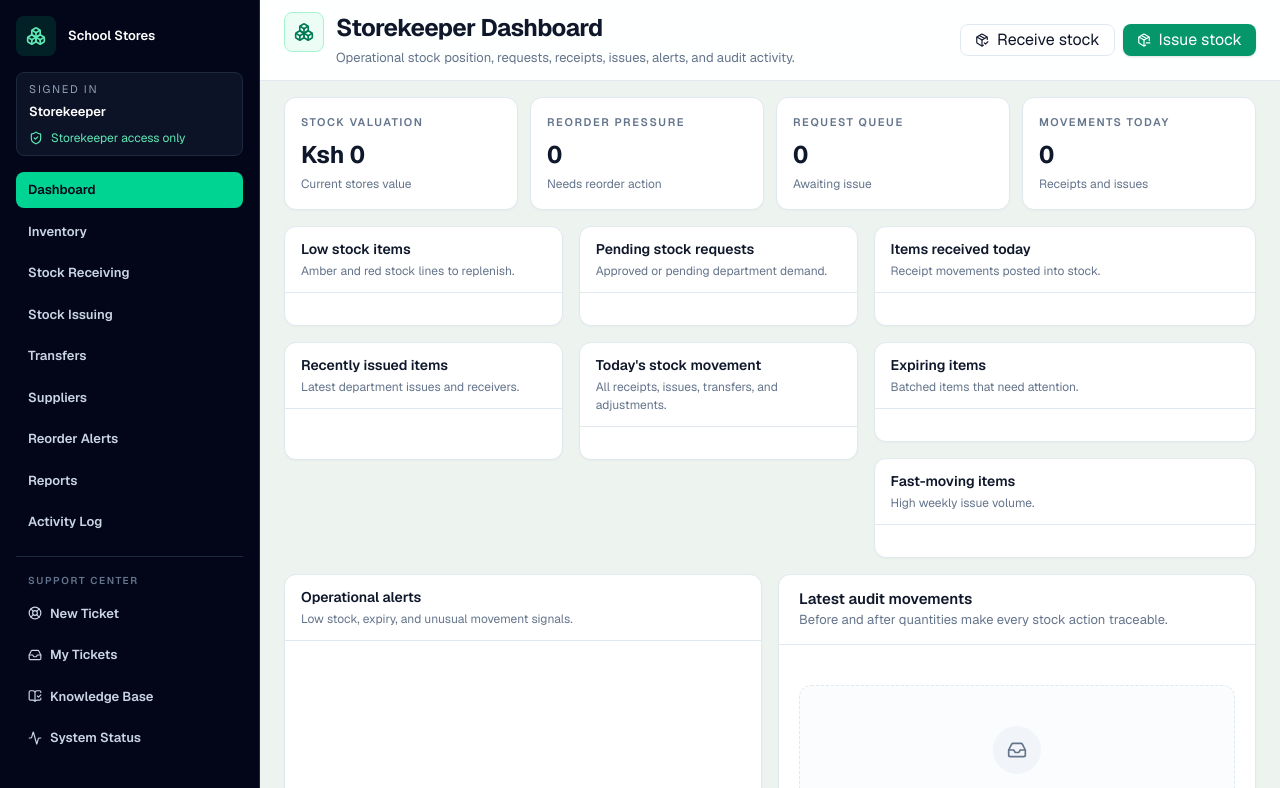
Test: storekeeper inventory workspace › renders a dense warehouse dashboard without unrelated modules
The width and height of the screenshot is (1280, 788).
Expected: the heading "Storekeeper Dashboard" is shown, [336,12,603,43]
Expected: the heading "Low stock items" is shown, [301,240,411,258]
Click the button "Issue stock".
click(1189, 40)  # box [1123,24,1256,56]
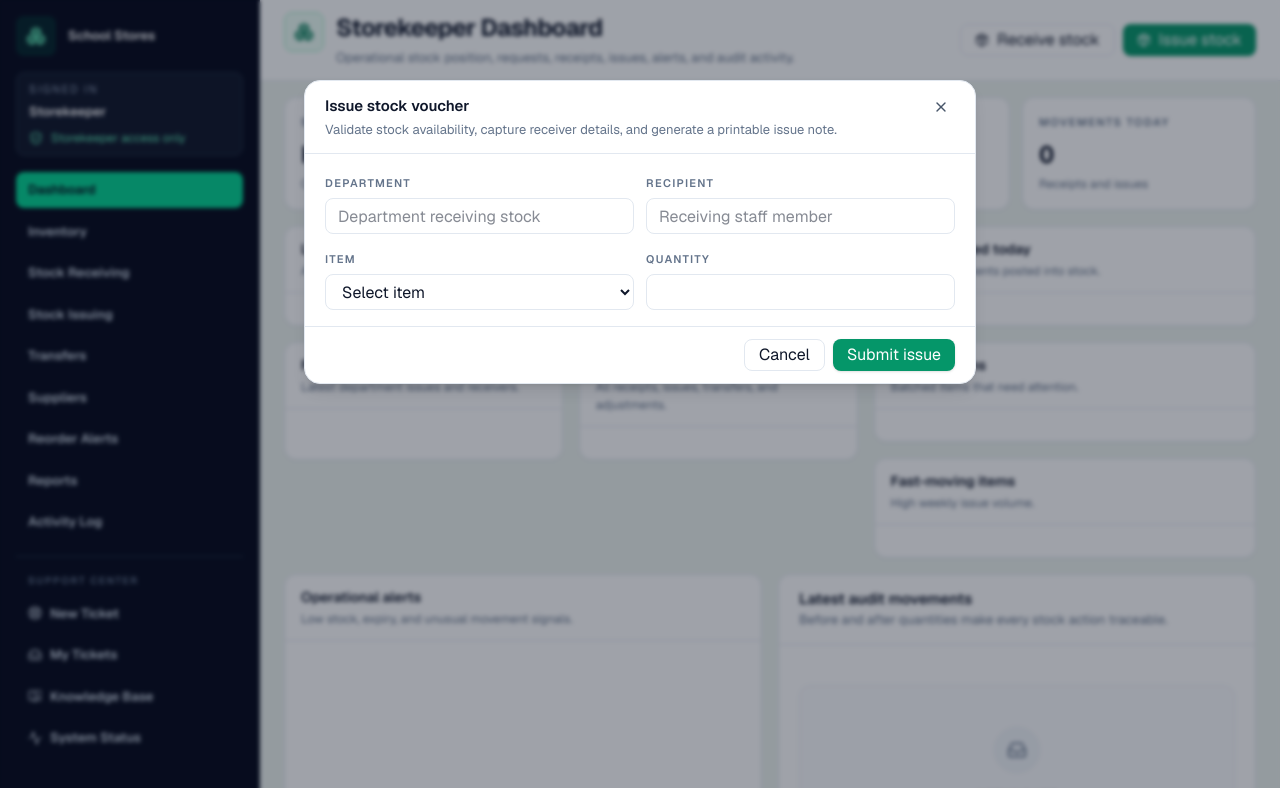
Expected: the heading "Issue stock voucher" is shown, [325,96,470,115]
